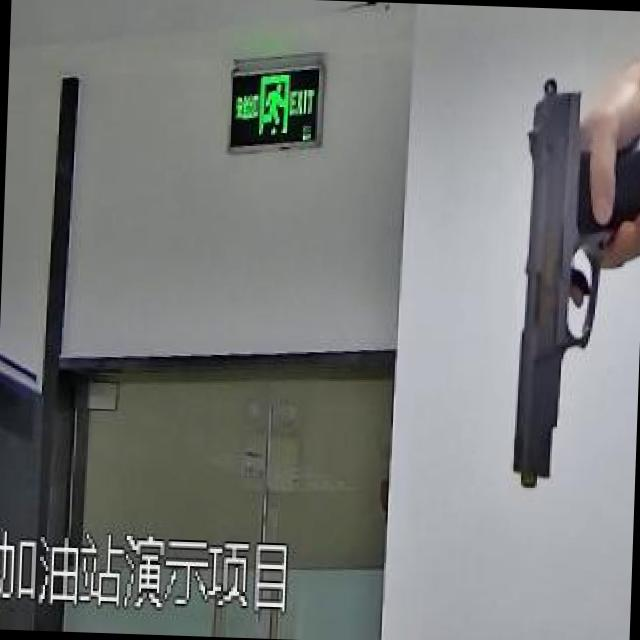Guns: (477, 34, 640, 529)
